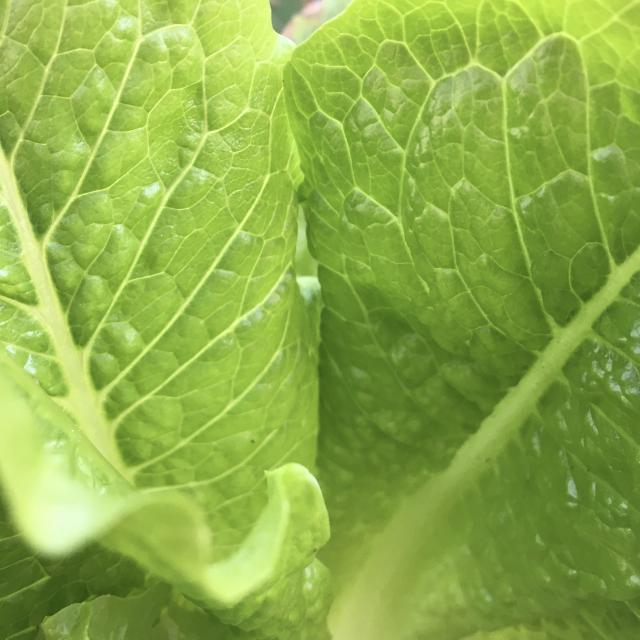Healthy Lettuce: (284, 2, 638, 636), (2, 2, 330, 633)
